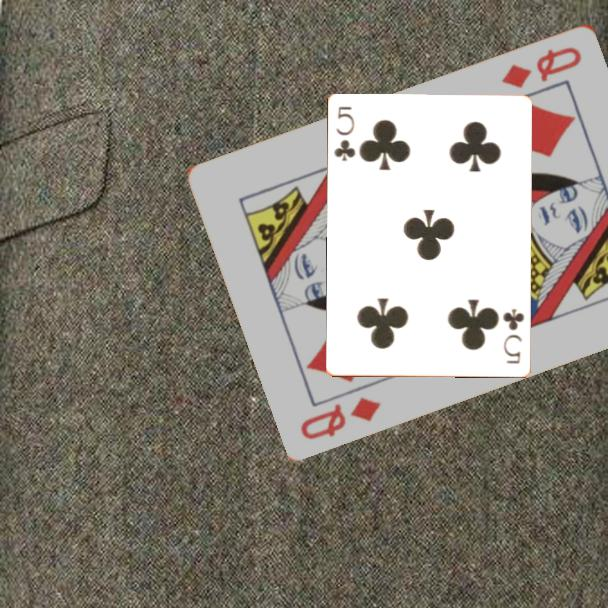c05: (500, 306, 527, 367), (331, 104, 358, 164)
d12: (297, 392, 385, 442), (498, 42, 585, 91)
